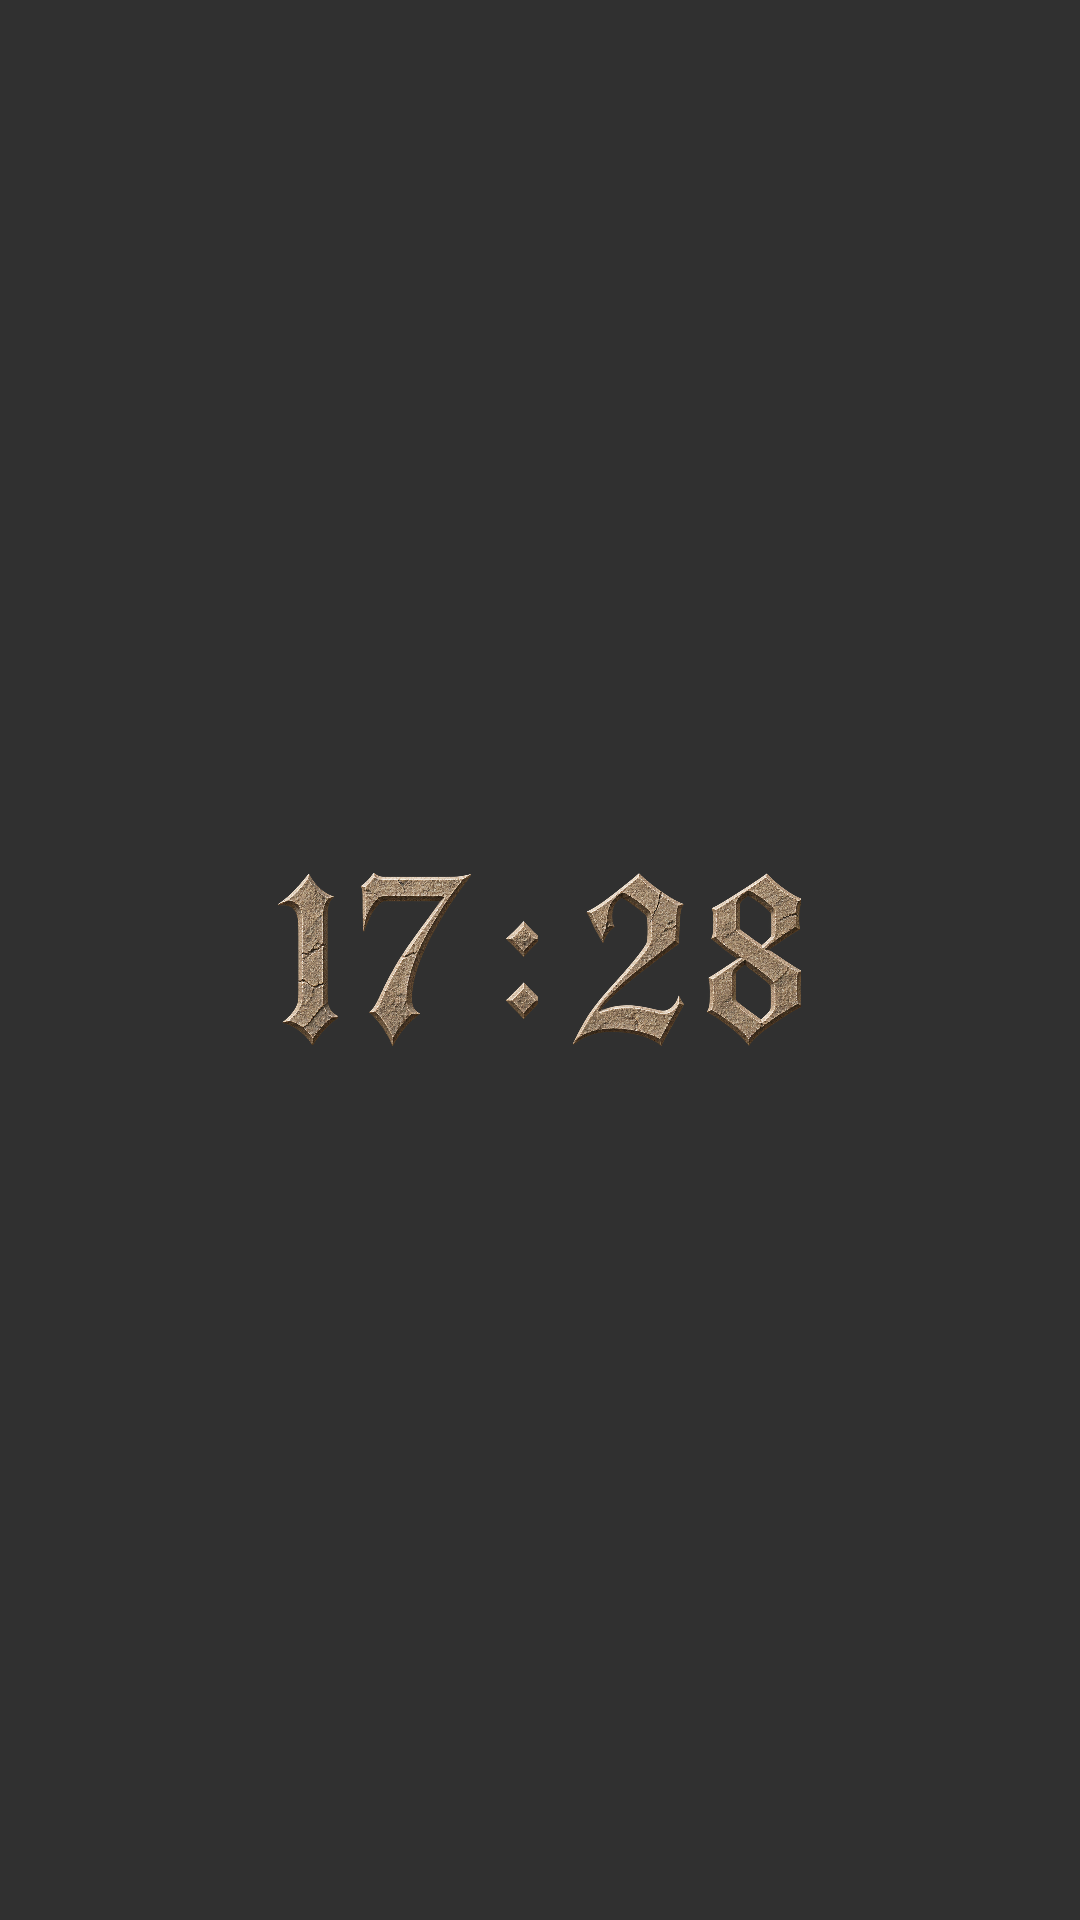

Icons on this 1080px×1920px Android screen, each with the point to tap as point (x, y):
digit: point (416, 959), point (628, 959), point (754, 959), point (308, 959)
digit colon: point (522, 970)
